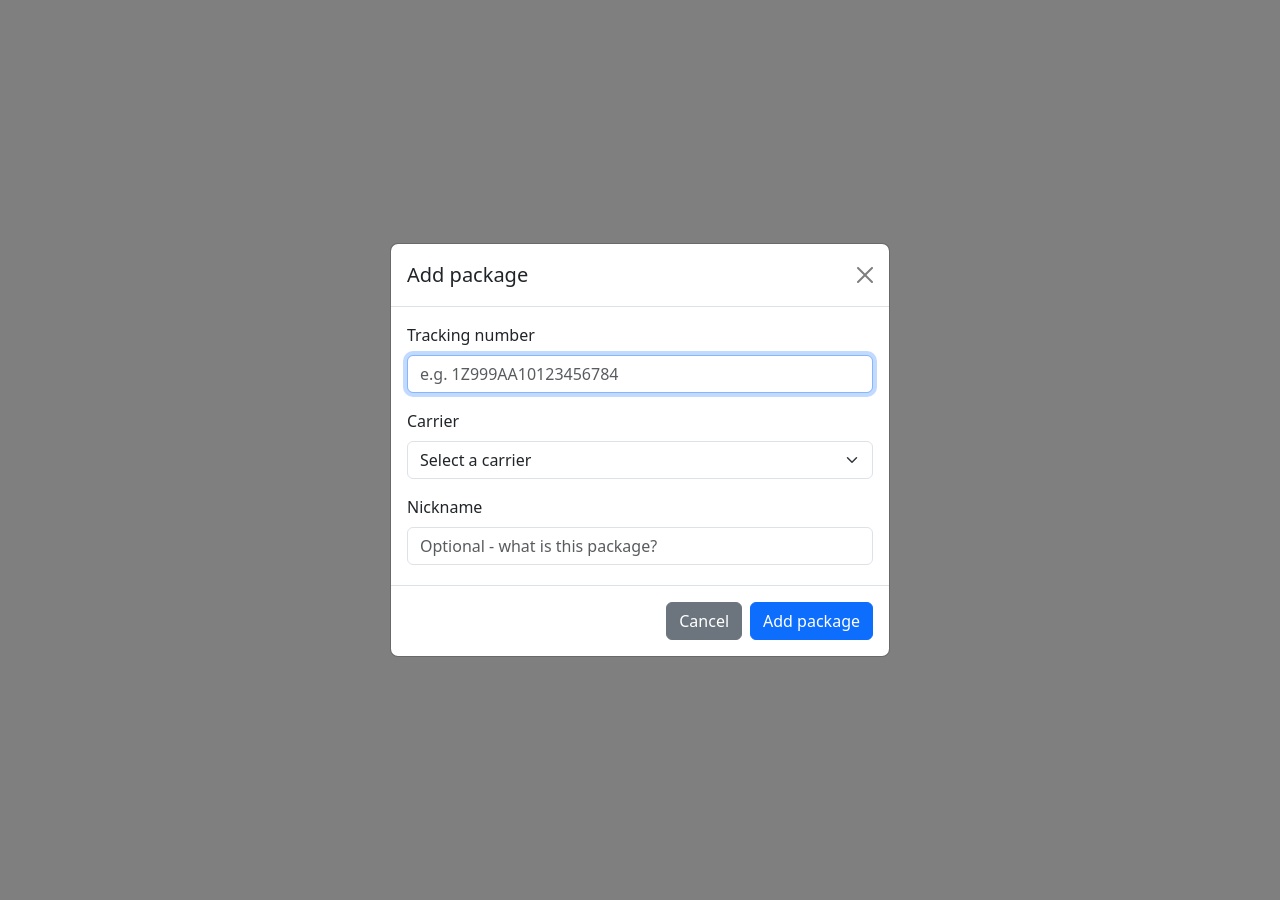
AddPackageModal › on CONFLICT, shows an info alert with no link
In the field labelled "Tracking number": (640, 374) [407,355,873,393], type "774988123312"
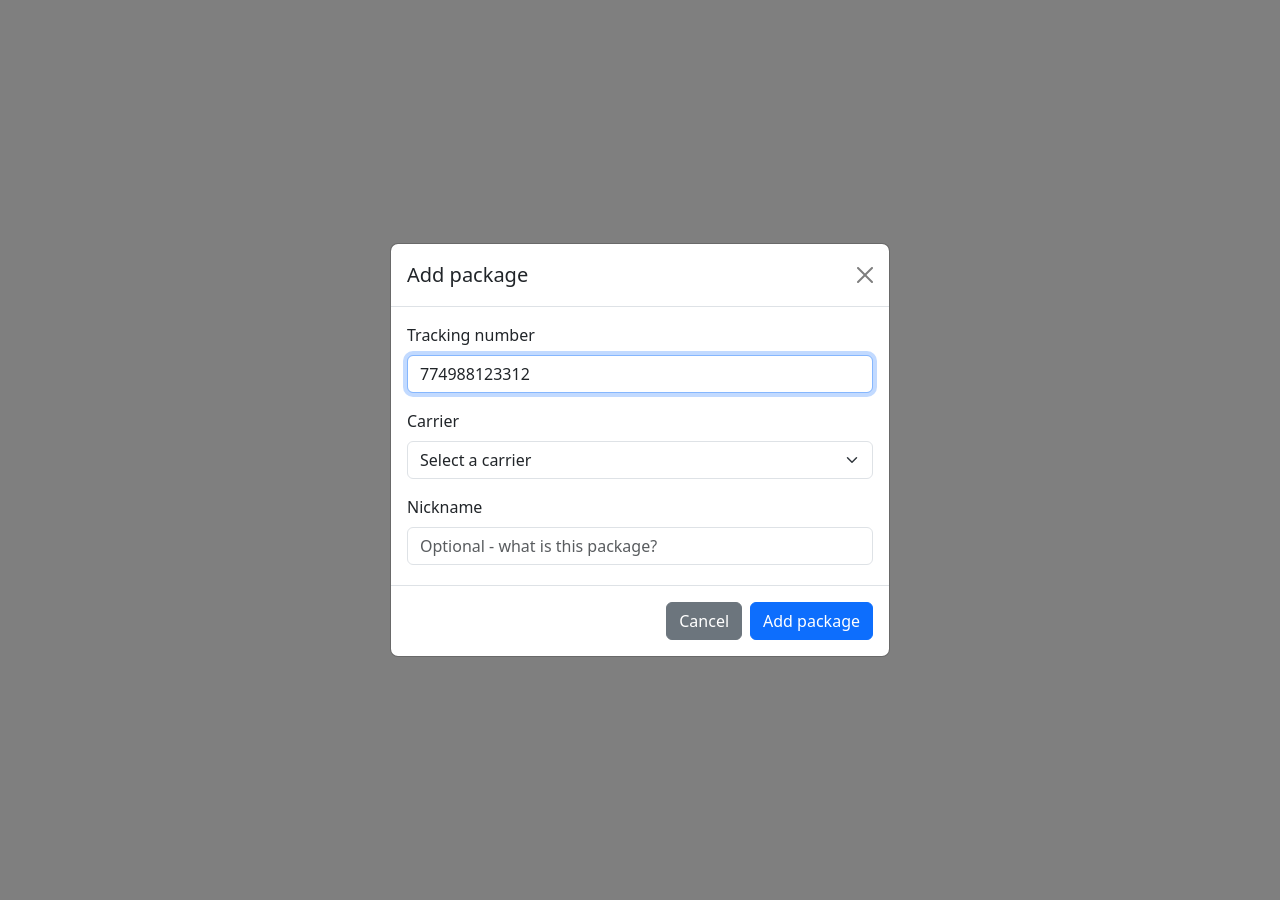
Press Tab
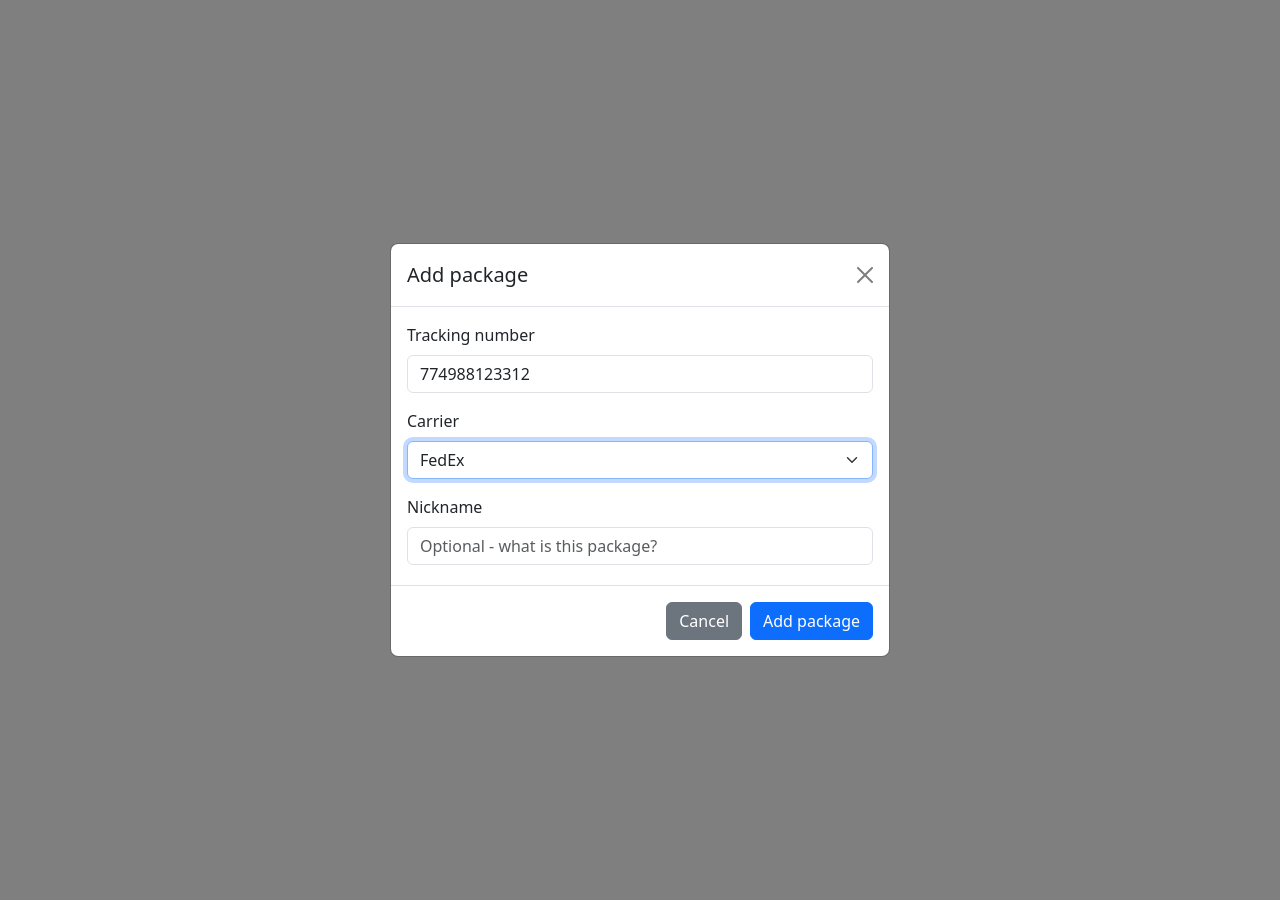
Click the button "Add package": (812, 621) [750,602,873,640]
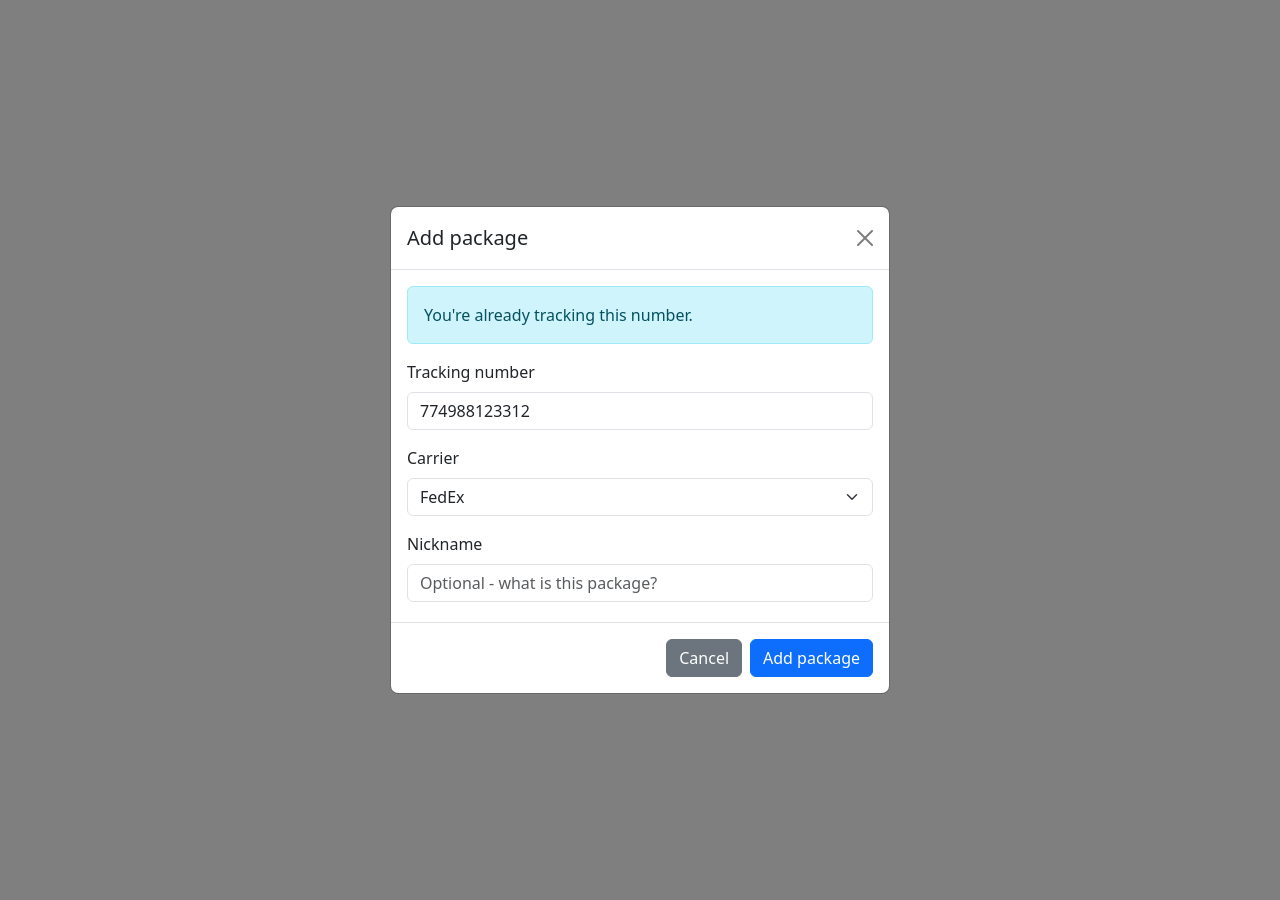
Expected: the message shows "already tracking", [424,304,693,326]
